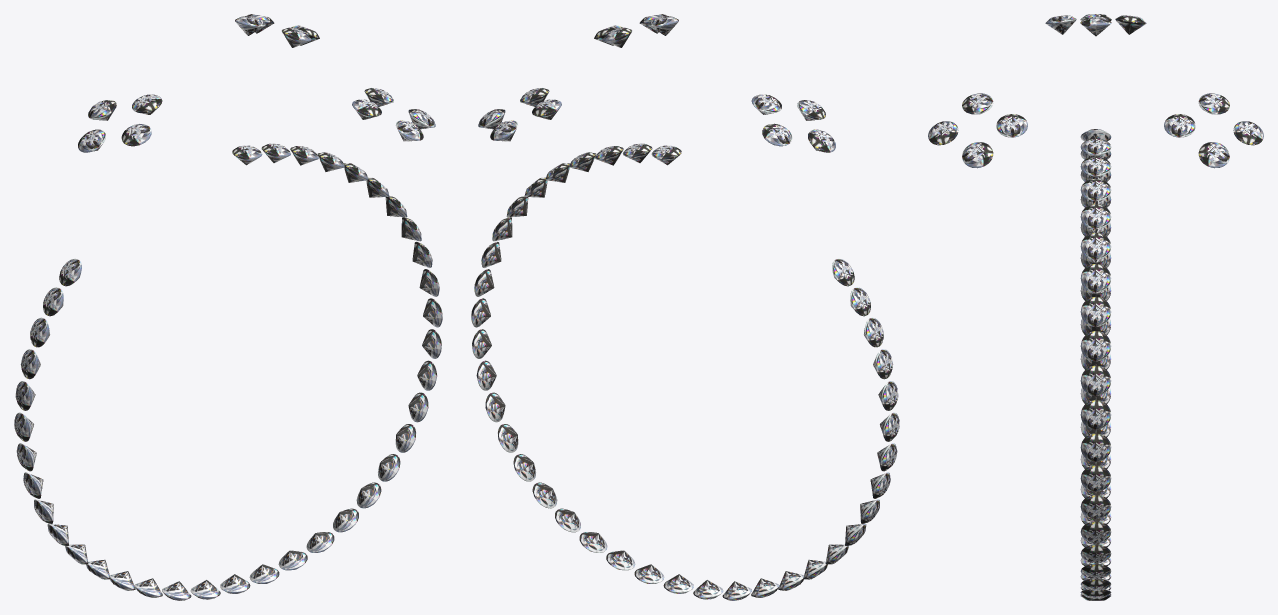
File: PLAIN SET STONES.fbx
The picture shows the model from 3 angles, left to right: view 1: azimuth 30°, elevation 25°; view 2: azimuth 150°, elevation 25°; view 3: azimuth 270°, elevation 25°; orthographic projection.
Visible parts, largest first — view 1: no part large enough to name; view 2: no part large enough to name; view 3: Object_39, Object_40, Object_41, Object_38, Object_42, Object_37, Object_43, Object_3, Object_7, Object_36, Object_44, Object_4 (+10 smaller).
Part boxes in pixels (bbox=[...]): Object_39: bbox=[1080, 365, 1111, 395]; Object_40: bbox=[1080, 331, 1111, 361]; Object_41: bbox=[1080, 296, 1111, 326]; Object_38: bbox=[1080, 400, 1111, 429]; Object_42: bbox=[1080, 263, 1111, 292]; Object_37: bbox=[1080, 433, 1111, 461]; Object_43: bbox=[1080, 232, 1111, 259]; Object_3: bbox=[1198, 142, 1229, 168]; Object_7: bbox=[962, 142, 993, 168]; Object_36: bbox=[1080, 465, 1111, 491]; Object_44: bbox=[1080, 204, 1111, 229]; Object_4: bbox=[1164, 114, 1195, 137].
Bounding box in the file's own units: 21.02 × 14.36 × 24.6.
1 material, 1 textured.
